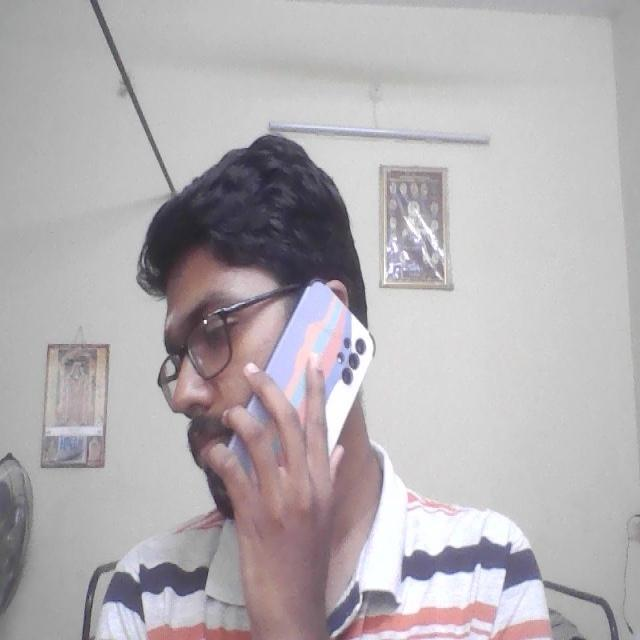Mobile: (246, 277, 386, 464)
